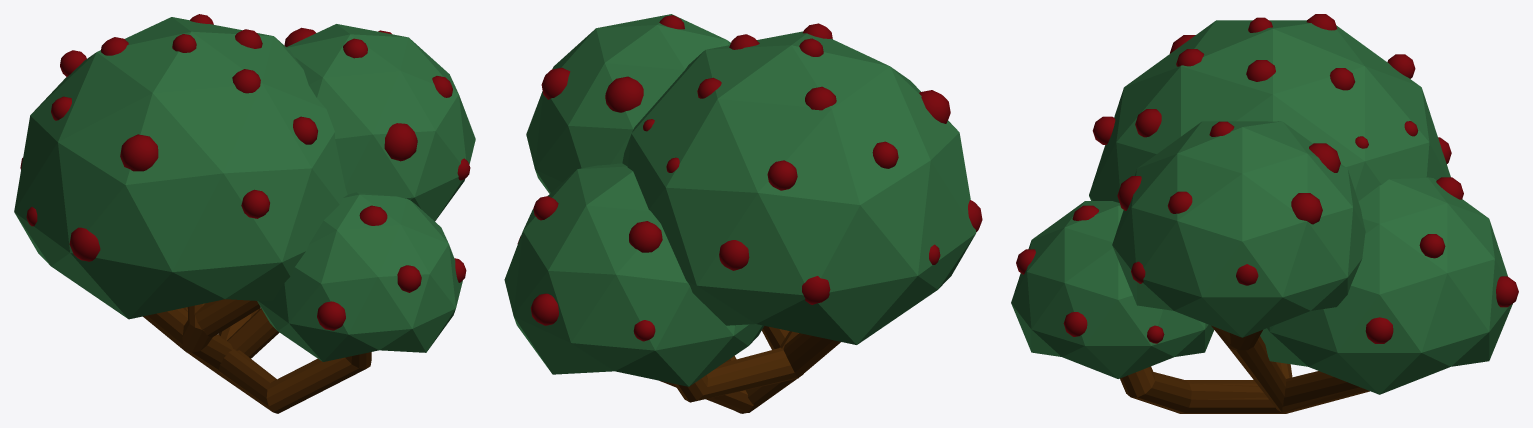
Rendered from berry_bush_variant1.fbx.
The picture shows the model from 3 angles, left to right: view 1: azimuth 30°, elevation 25°; view 2: azimuth 150°, elevation 25°; view 3: azimuth 270°, elevation 25°; orthographic projection. The views are drawn at different scales.
Visible parts, largest first — view 1: Icosphere.013, Icosphere.010, Icosphere.011, Vert.002, Icosphere.003, Icosphere.024, Icosphere.006, Icosphere.017, Icosphere.002, Icosphere.032, Icosphere.027, Icosphere.001 (+2 smaller); view 2: Icosphere.013, Icosphere.012, Icosphere.011, Vert.002, Icosphere.021, Icosphere.008, Icosphere.029, Icosphere.009, Icosphere, Icosphere.003, Icosphere.022, Icosphere.005 (+3 smaller); view 3: Icosphere.011, Icosphere.013, Icosphere.012, Icosphere.010, Vert.002, Icosphere.022, Icosphere.014, Icosphere.032, Icosphere.009, Icosphere.021, Icosphere.033, Icosphere.024 (+3 smaller).
Part boxes in pixels (x1=…): Icosphere.013: x1=14, y1=17, x2=347, y2=319; Icosphere.010: x1=257, y1=192, x2=462, y2=361; Icosphere.011: x1=286, y1=24, x2=475, y2=221; Vert.002: x1=143, y1=299, x2=371, y2=413; Icosphere.003: x1=120, y1=134, x2=158, y2=171; Icosphere.024: x1=384, y1=123, x2=417, y2=161; Icosphere.006: x1=69, y1=227, x2=100, y2=261; Icosphere.017: x1=317, y1=301, x2=345, y2=330; Icosphere.002: x1=241, y1=189, x2=269, y2=218; Icosphere.032: x1=293, y1=116, x2=317, y2=144; Icosphere.027: x1=397, y1=265, x2=421, y2=292; Icosphere.001: x1=232, y1=69, x2=260, y2=93; Icosphere.013: x1=622, y1=31, x2=976, y2=344; Icosphere.012: x1=504, y1=163, x2=763, y2=386; Icosphere.011: x1=526, y1=14, x2=730, y2=193; Vert.002: x1=659, y1=326, x2=840, y2=413; Icosphere.021: x1=605, y1=76, x2=643, y2=112; Icosphere.008: x1=629, y1=221, x2=662, y2=252; Icosphere.029: x1=719, y1=240, x2=749, y2=270; Icosphere.009: x1=530, y1=293, x2=558, y2=325; Icosphere: x1=767, y1=160, x2=797, y2=190; Icosphere.003: x1=919, y1=90, x2=950, y2=123; Icosphere.022: x1=541, y1=67, x2=570, y2=99; Icosphere.005: x1=802, y1=276, x2=830, y2=304; Icosphere.011: x1=1112, y1=121, x2=1365, y2=337; Icosphere.013: x1=1089, y1=20, x2=1450, y2=202; Icosphere.012: x1=1260, y1=177, x2=1512, y2=394; Icosphere.010: x1=1011, y1=201, x2=1213, y2=378; Vert.002: x1=1120, y1=325, x2=1369, y2=413; Icosphere.022: x1=1291, y1=193, x2=1322, y2=224; Icosphere.014: x1=1365, y1=317, x2=1393, y2=343; Icosphere.032: x1=1135, y1=109, x2=1161, y2=137; Icosphere.009: x1=1496, y1=276, x2=1518, y2=307; Icosphere.021: x1=1309, y1=143, x2=1340, y2=172; Icosphere.033: x1=1246, y1=60, x2=1275, y2=81; Icosphere.024: x1=1117, y1=176, x2=1141, y2=210.
Bounding box in the file's own units: 75.26 × 64.51 × 80.88.
